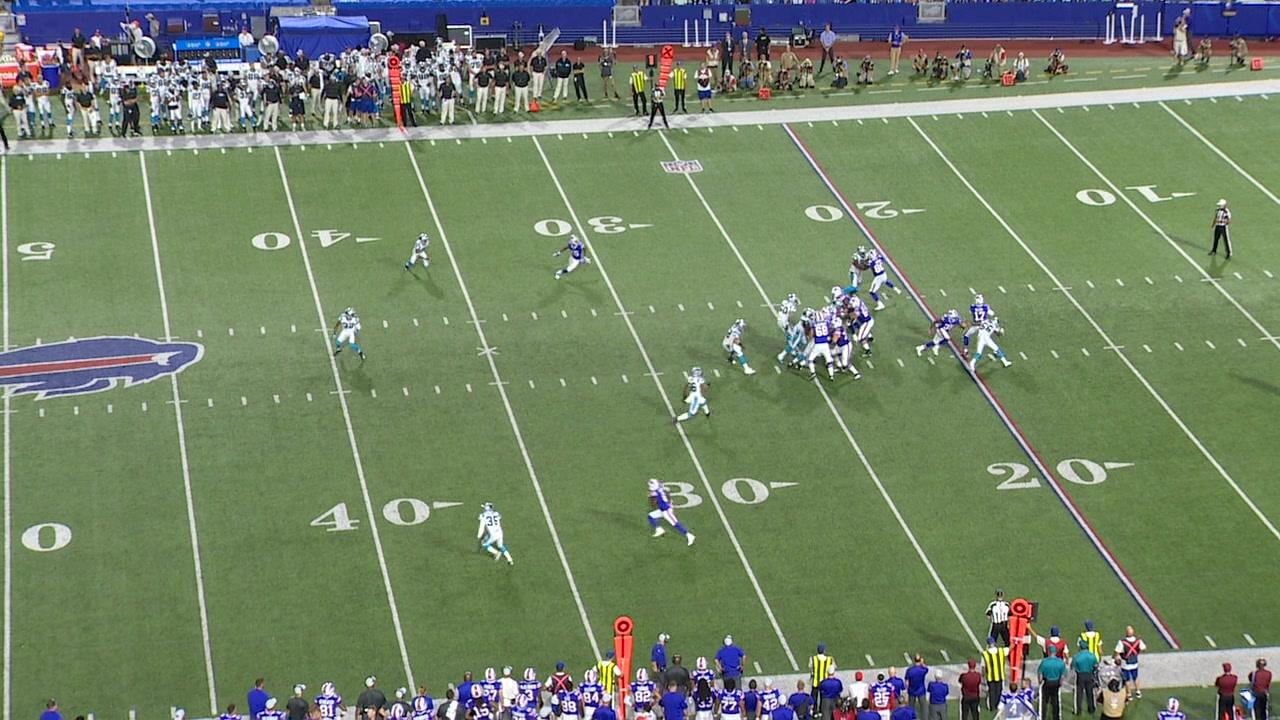ball: (993, 324, 1005, 338)
marker: (388, 54, 403, 127), (658, 43, 675, 90)
number: (304, 494, 432, 535), (987, 455, 1110, 493), (656, 478, 771, 508), (1070, 181, 1176, 209), (802, 199, 902, 228), (532, 212, 627, 239), (248, 228, 353, 251)
